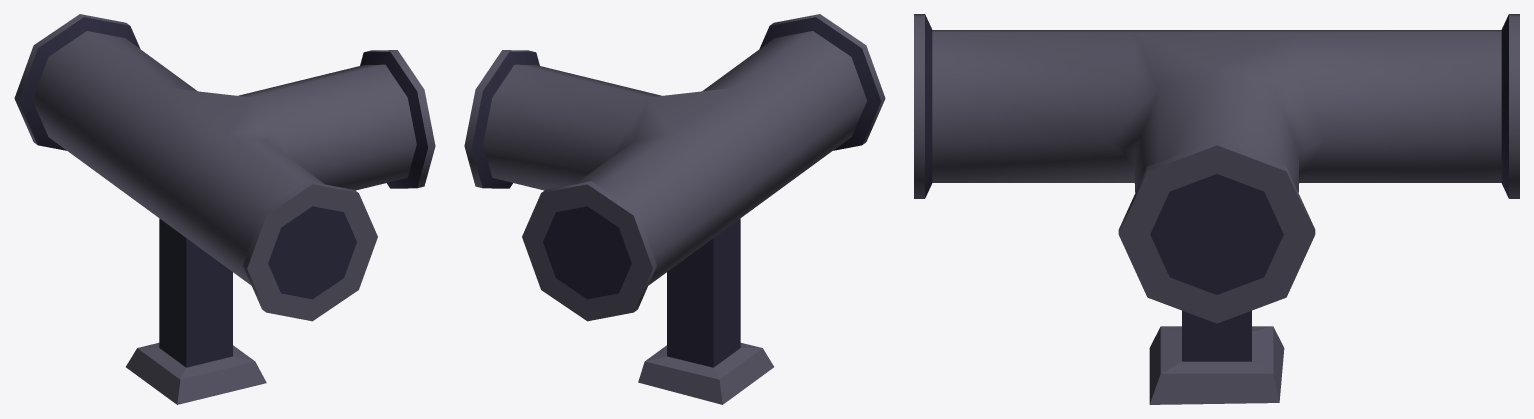
Rendered from PipeTsplit.fbx.
The picture shows the model from 3 angles, left to right: view 1: azimuth 30°, elevation 25°; view 2: azimuth 150°, elevation 25°; view 3: azimuth 270°, elevation 25°; orthographic projection. The views are drawn at different scales.
Visible parts, largest first — view 1: PipeTsplit; view 2: PipeTsplit; view 3: PipeTsplit.
Boxes of the visible parts, bbox=[...] form: PipeTsplit: bbox=[14, 14, 435, 404]; PipeTsplit: bbox=[464, 14, 885, 404]; PipeTsplit: bbox=[914, 14, 1519, 404].
Bounding box in the file's own units: 66.25 × 65.42 × 100.
